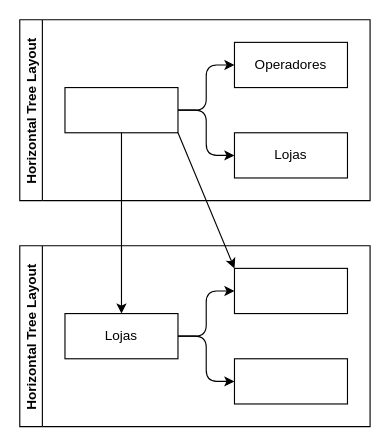
This 390x446 diagram has some shape labels left out. Here are the shapes that lost their labels. From the top down, the centre of each, then its label:
the point at 121,109: Administrador
the point at 290,290: Vendedor
the point at 290,381: Gestor
